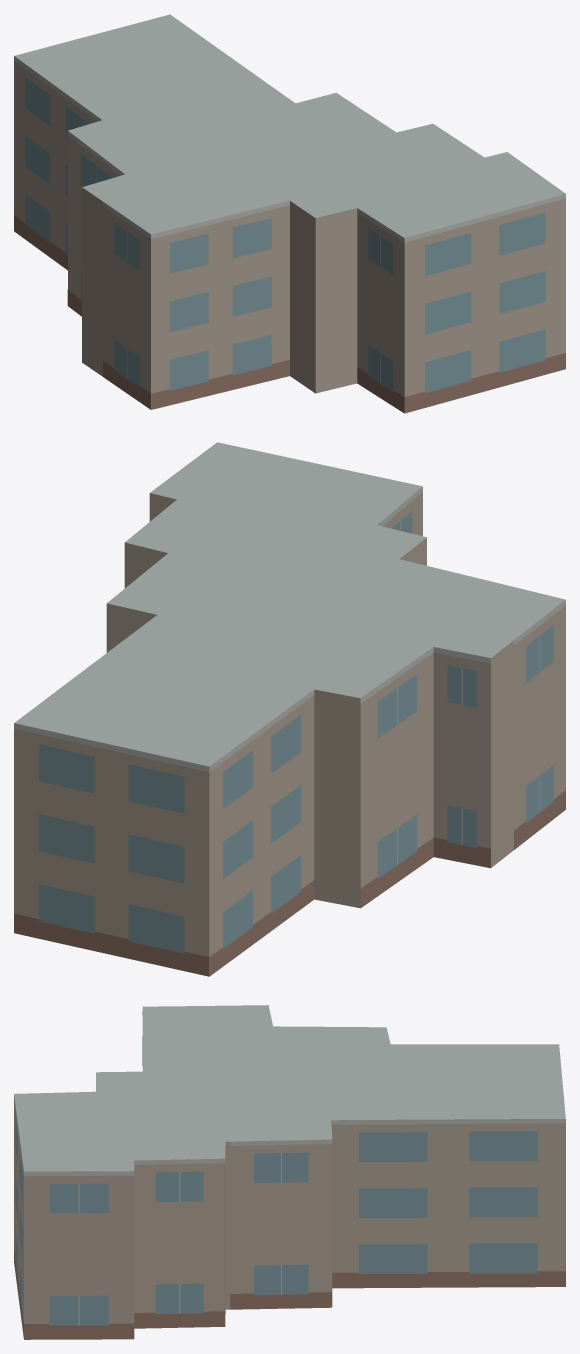
Rendered from survey-upis-32587140.glb.
3 renders of one model, top to bottom at view 1: azimuth 30°, elevation 25°; view 2: azimuth 150°, elevation 25°; view 3: azimuth 270°, elevation 25°, orthographic. The views are drawn at different scales.
Visible parts, largest first — view 1: survey-upis-32587140.tmp; view 2: survey-upis-32587140.tmp; view 3: survey-upis-32587140.tmp.
Part boxes in pixels (bbox=[...]): survey-upis-32587140.tmp: bbox=[14, 14, 565, 413]; survey-upis-32587140.tmp: bbox=[14, 442, 565, 976]; survey-upis-32587140.tmp: bbox=[14, 1005, 565, 1339].
Size of the model in its own units: 19.45 by 9.15 by 27.23.
